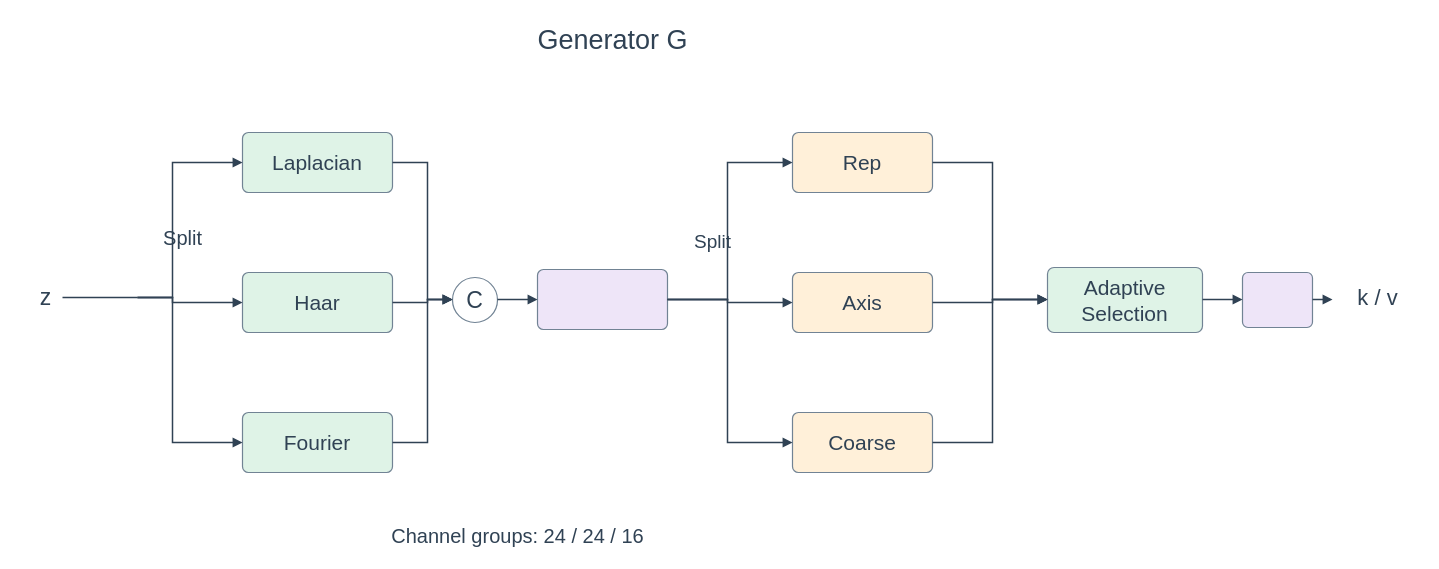
This 1439x569 diagram has some shape labels left out. Here are the shapes that lost their labels. From the top down, the centre of each, then its label:
At point (602, 299): "PW → LN".
At point (1277, 299): "PW".
